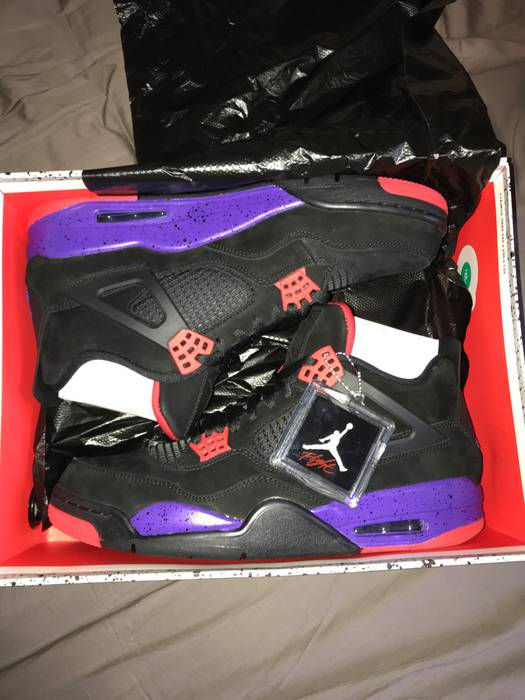Air Jordan 4 Raptors: (1, 172, 462, 435), (43, 298, 503, 557)
